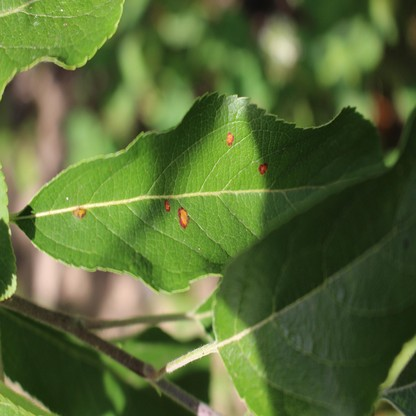rust: (177, 206, 188, 229), (73, 207, 87, 218), (258, 162, 268, 175), (227, 130, 234, 144), (165, 197, 170, 212)
